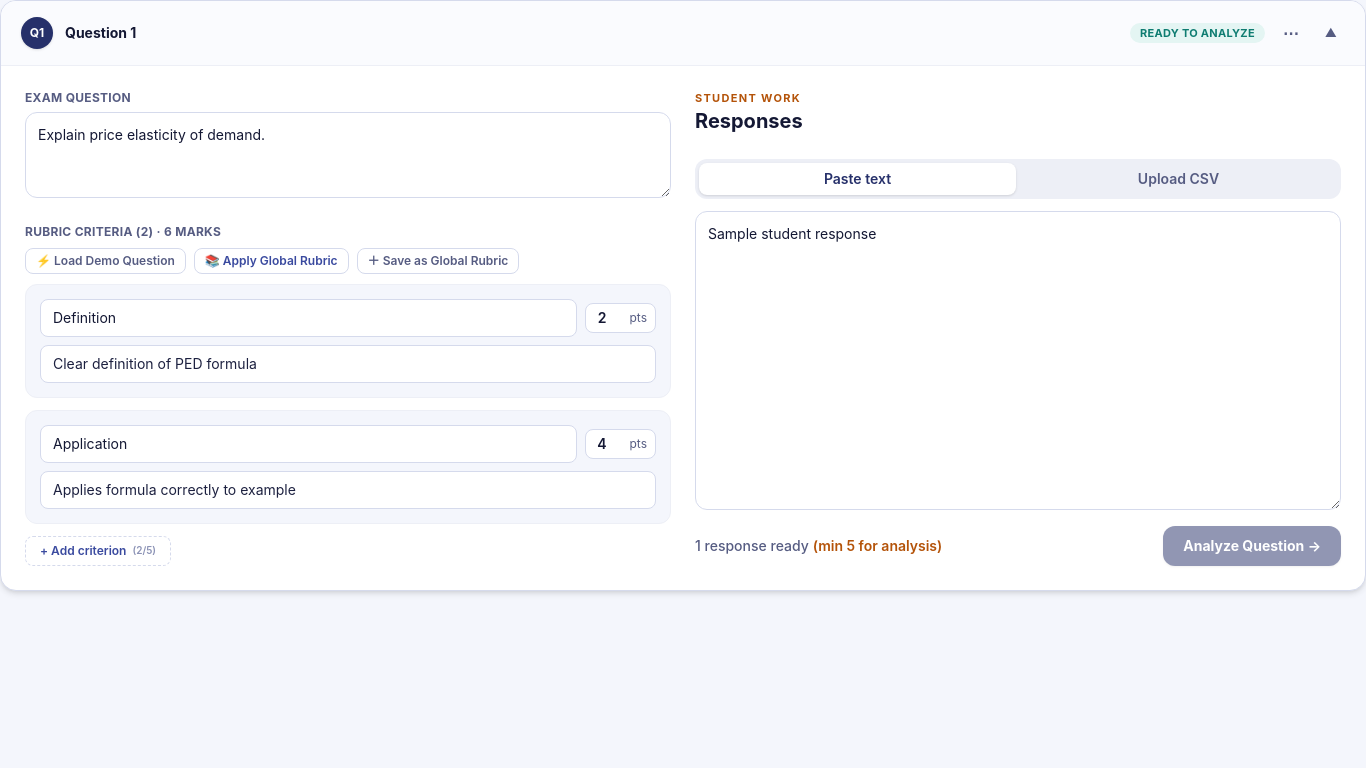
Save as Global Rubric Workflow › opens the save modal when valid button is clicked
Click the button "＋ Save as Global Rubric": point(438, 261) x1=357 y1=248 x2=519 y2=274
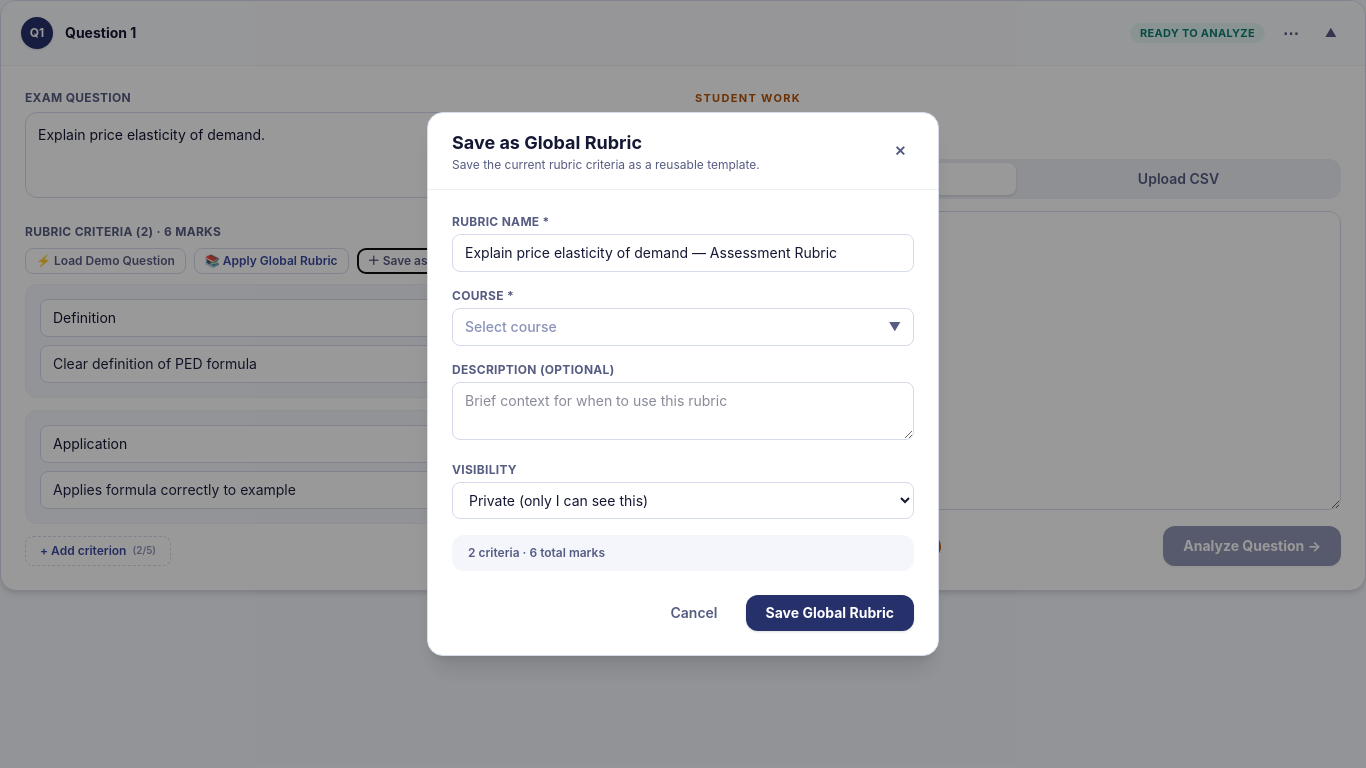
Result: the heading "Save as Global Rubric" is shown at x1=452 y1=132 x2=642 y2=153
Result: the text "Save the current rubric criteria as a reusable template." is shown at x1=452 y1=157 x2=760 y2=173
